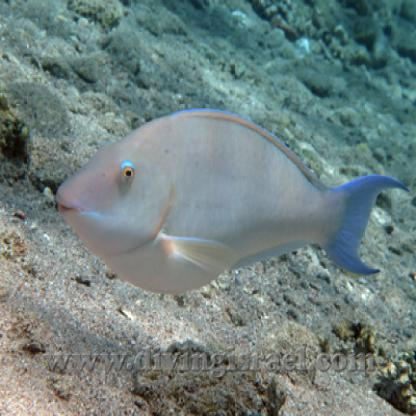Scaridae -Parrotfishes-: (51, 89, 410, 318)
